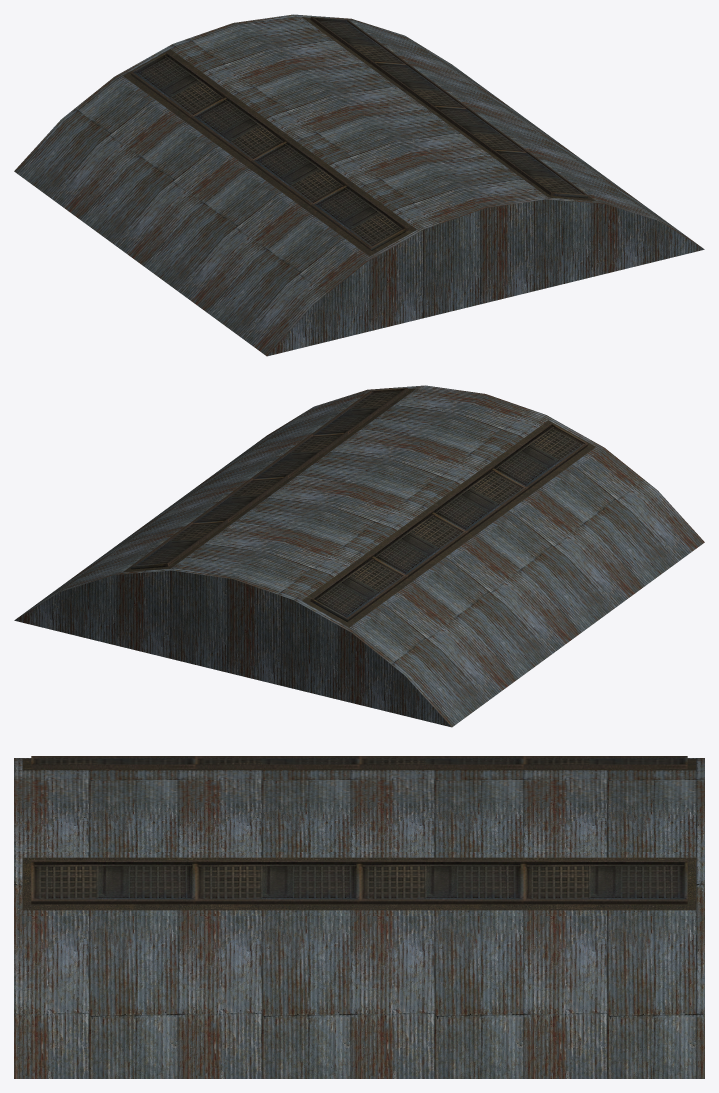
File: warehouse_hs_1_roof_2.dae
The picture shows the model from 3 angles, top to bottom: view 1: azimuth 30°, elevation 25°; view 2: azimuth 150°, elevation 25°; view 3: azimuth 270°, elevation 25°; orthographic projection. The views are drawn at different scales.
Visible parts, largest first — view 1: warehouse_hs_1_roof_2; view 2: warehouse_hs_1_roof_2; view 3: warehouse_hs_1_roof_2.
Boxes of the visible parts, x1,y1,x2,y2 form: warehouse_hs_1_roof_2: [14, 14, 704, 356]; warehouse_hs_1_roof_2: [14, 385, 704, 727]; warehouse_hs_1_roof_2: [14, 756, 704, 1078].
Size of the model in its own units: 8 by 8 by 1.66.
Materials: 3 (3 with a texture image).
